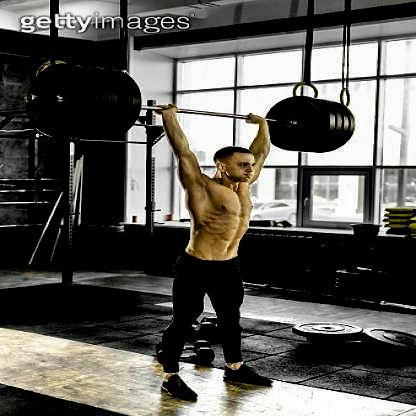Barbell: (22, 88, 36, 108)
